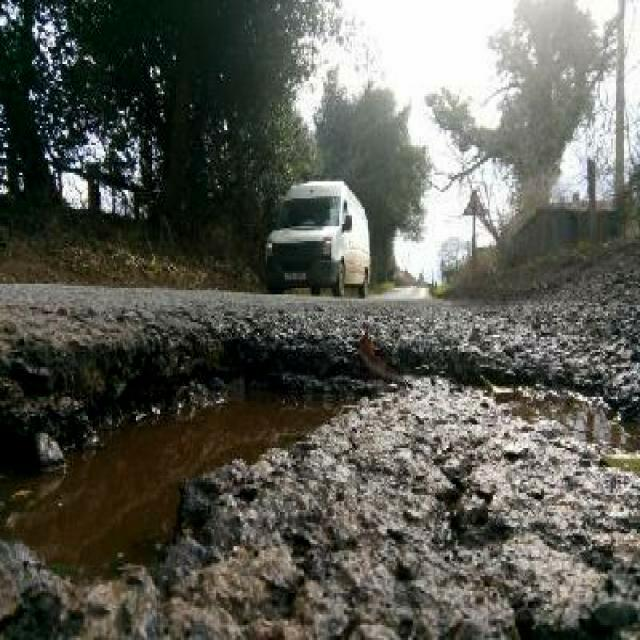Pothole: (2, 331, 640, 604)
